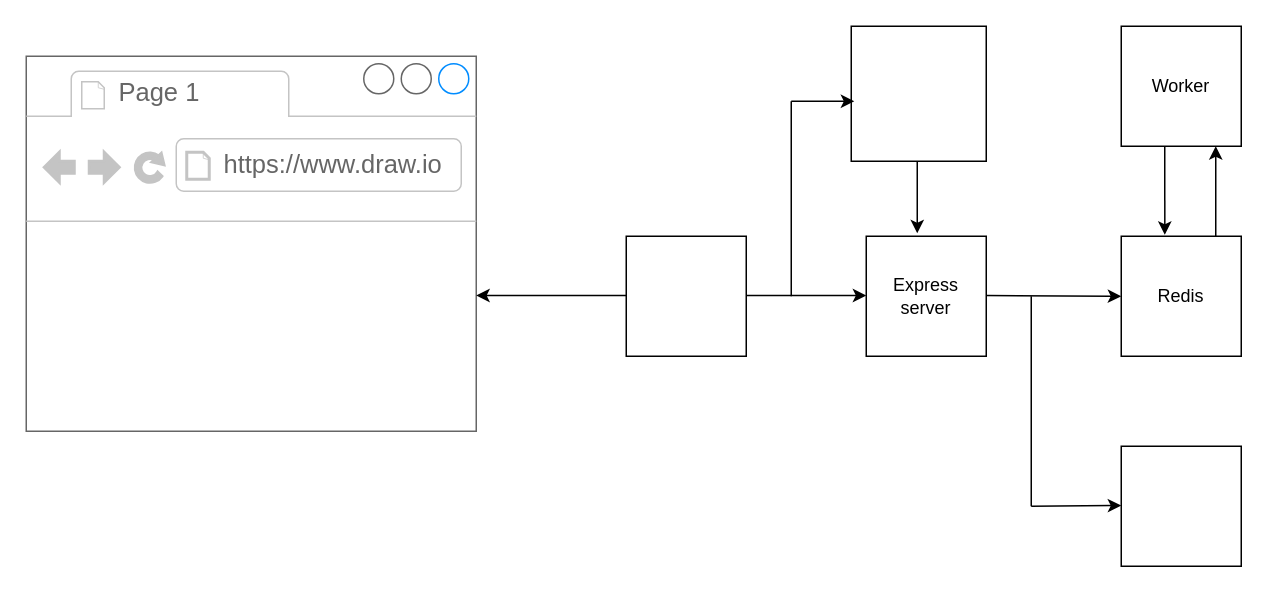
The diagram is 1268 pixels wide and 593 high, and some of its shapes have lost their labels. The shapes that lost their labels are listed below. From the top down, each one's centre as x and y in pixels, then its label:
At pixel 918 93: "React Server".
At pixel 685 295: "Nginx".
At pixel 1180 505: "Postgres".
